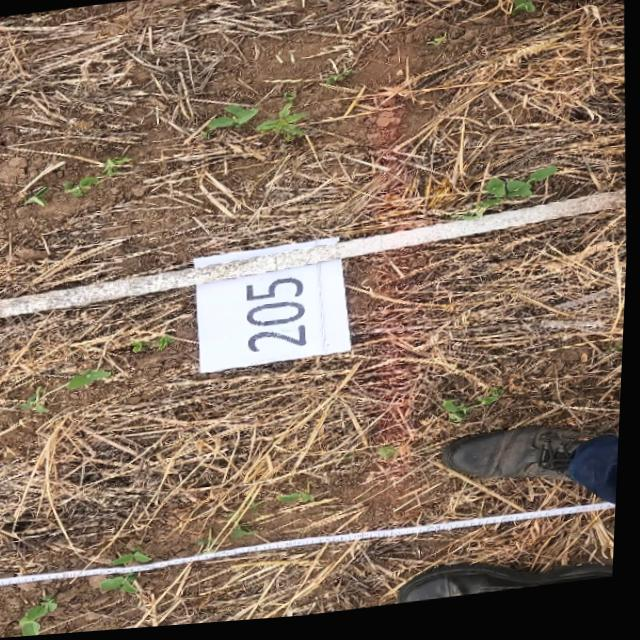caruru_weed: (258, 107, 307, 142)
soy_plant: (478, 175, 559, 222), (65, 159, 132, 198), (446, 395, 507, 430), (25, 596, 63, 637), (208, 108, 259, 129), (70, 368, 115, 391), (24, 387, 53, 414), (105, 577, 144, 596), (136, 335, 176, 353), (118, 549, 155, 567), (26, 187, 52, 206), (326, 74, 357, 89), (513, 0, 535, 21), (382, 450, 404, 466)
